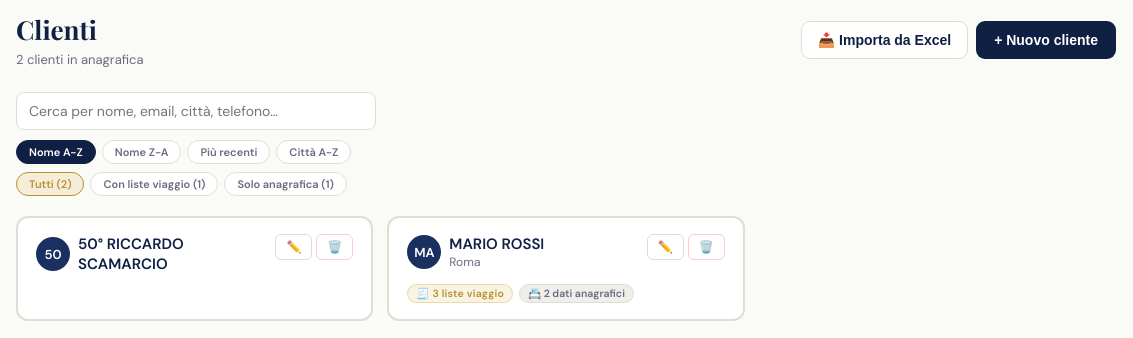
Test case: Anagrafica — visibilità del legame con le liste viaggio › permette di separare le anagrafiche dagli intestatari delle liste
Step 1. Click the button "Solo anagrafica (1)" → (286, 184), box left=224, top=172, right=347, bottom=196
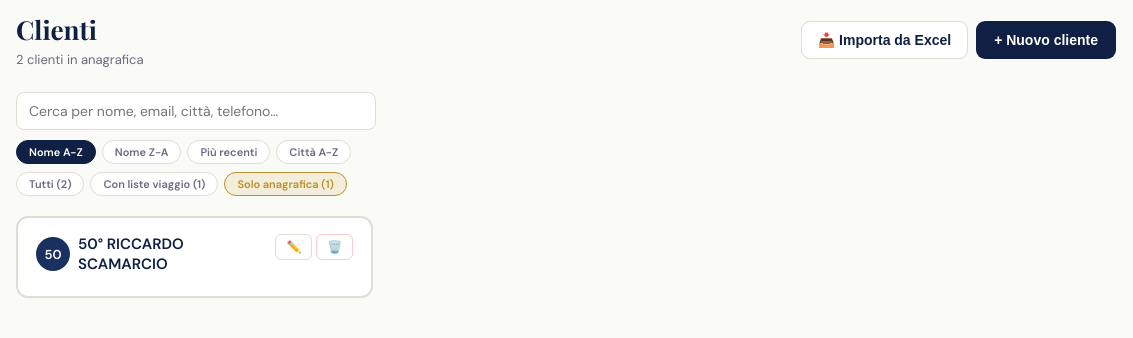
Check: the text "50° RICCARDO SCAMARCIO" is shown, box left=78, top=234, right=184, bottom=274
Check: the button "MARIO ROSSI" is gone
Step 2. Click the button "Con liste viaggio (1)" → (154, 184), box left=90, top=172, right=218, bottom=196
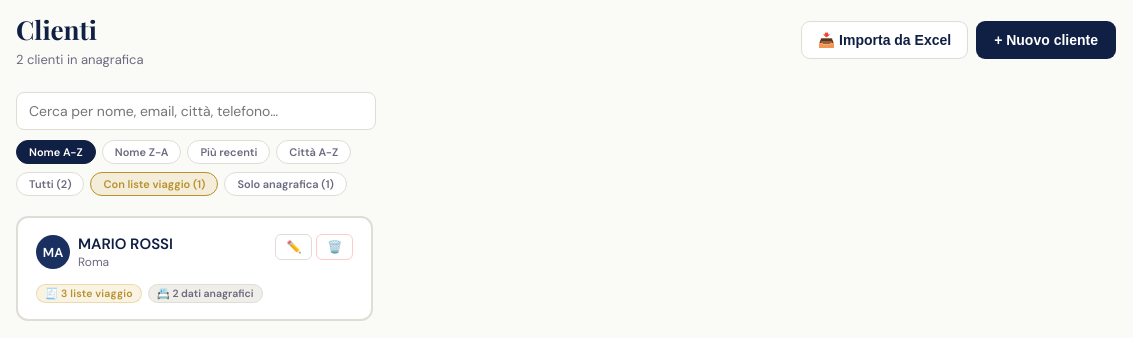
Check: the text "MARIO ROSSI" is shown, box left=78, top=234, right=173, bottom=254
Check: the button "50° RICCARDO SCAMARCIO" is gone
